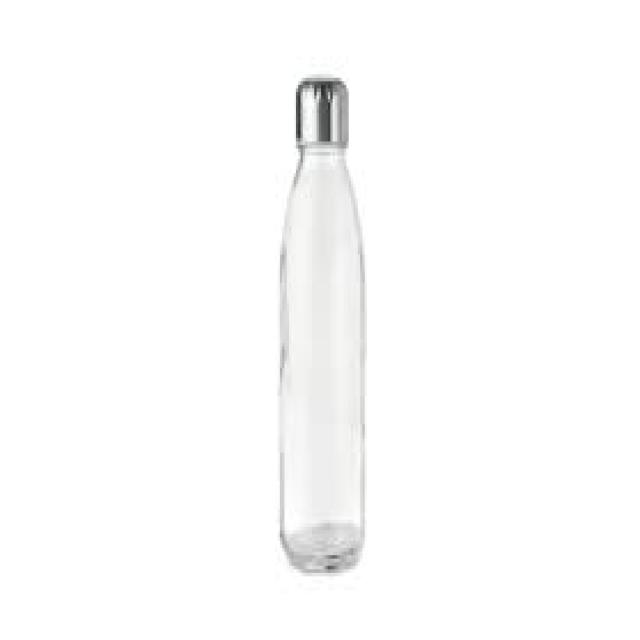glass: (280, 138, 365, 569)
metal: (294, 78, 344, 148)
